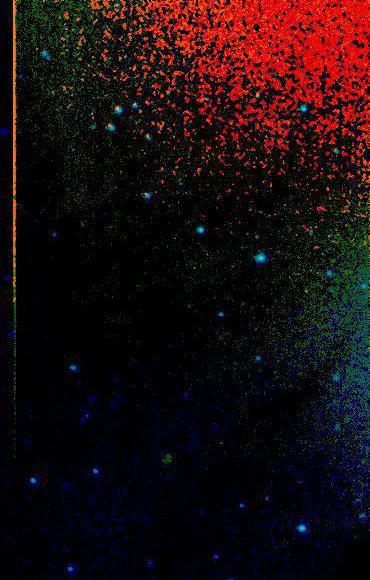star: (205, 430, 235, 460)
